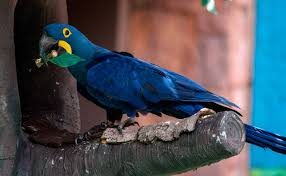guacamaya: (38, 22, 246, 132)
